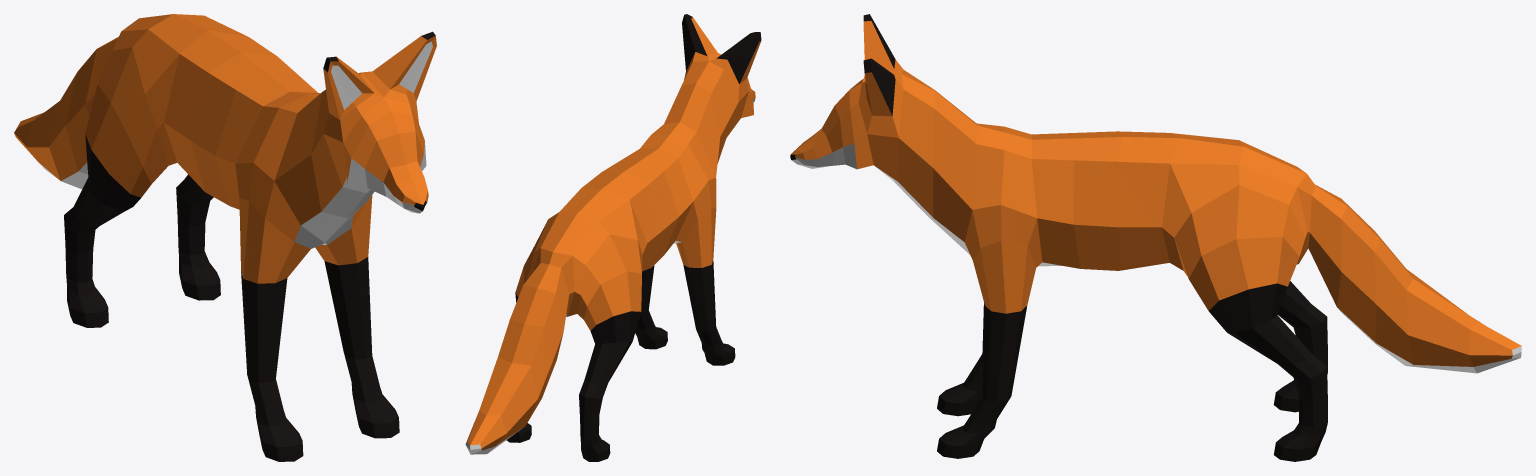
File: Fox.glb
The picture shows the model from 3 angles, left to right: view 1: azimuth 30°, elevation 25°; view 2: azimuth 150°, elevation 25°; view 3: azimuth 270°, elevation 25°; orthographic projection. The views are drawn at different scales.
Parts seen in each view (by area): view 1: 01foxFinal; view 2: 01foxFinal; view 3: 01foxFinal.
Part boxes in pixels (x1,y1,x2,y2): 01foxFinal: (14,14,436,461); 01foxFinal: (465,14,761,461); 01foxFinal: (790,14,1521,461).
Bounding box in the file's own units: 0.4363 × 1.13 × 1.91.
Materials: 1 (1 with a texture image).
